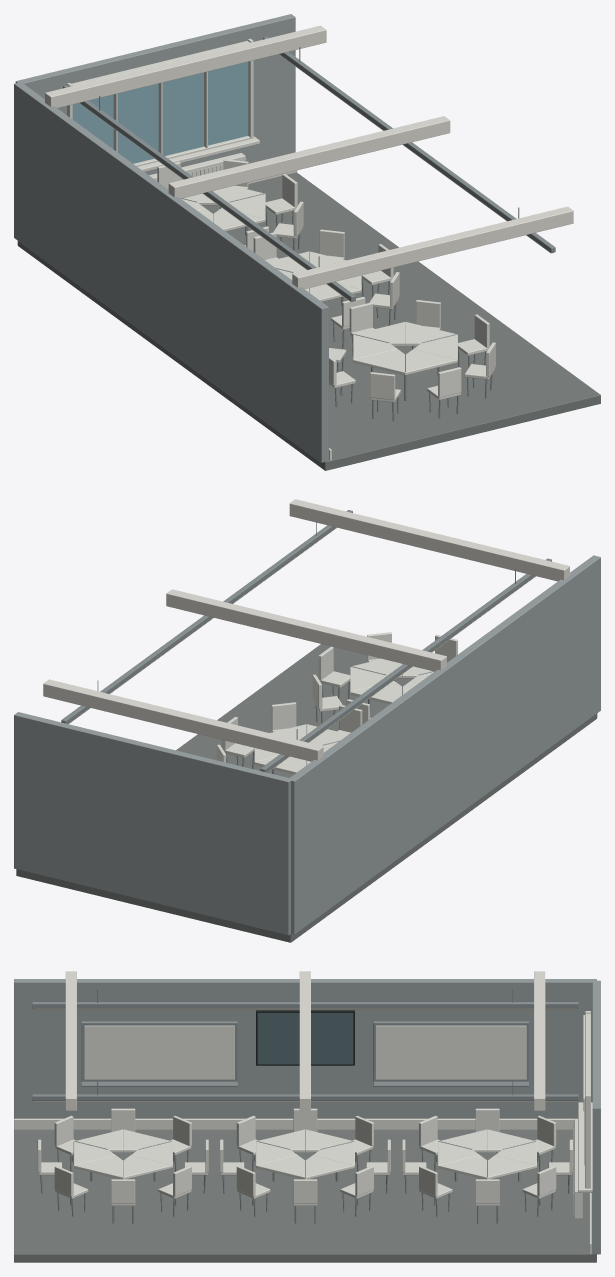
The model's file is kgs-interior-dd7568f9c5c7.glb.
3 views of the same model, one above another, from view 1: azimuth 30°, elevation 25°; view 2: azimuth 150°, elevation 25°; view 3: azimuth 270°, elevation 25° (orthographic). The views are drawn at different scales.
Parts seen in each view (by area): view 1: KGS.001; view 2: KGS.001; view 3: KGS.001.
Boxes of the visible parts, bbox=[...] form: KGS.001: bbox=[14, 14, 600, 470]; KGS.001: bbox=[14, 499, 600, 942]; KGS.001: bbox=[14, 971, 600, 1262].
Size of the model in its own units: 5.88 by 3.48 by 11.28.
